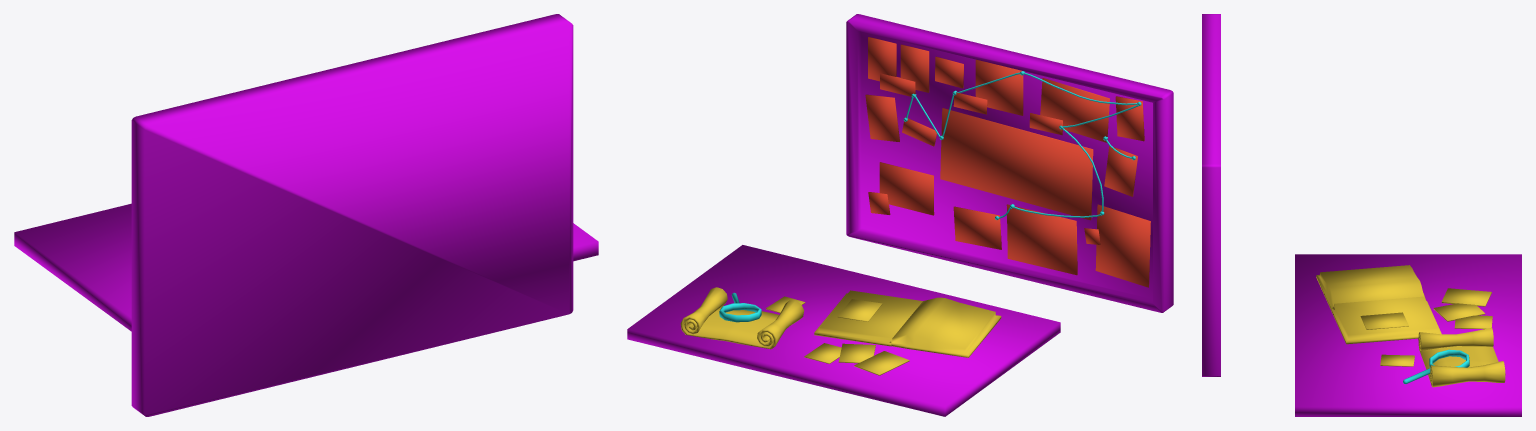
The model's file is StoryboardNEW.fbx.
3 renders of one model, left to right at view 1: azimuth 30°, elevation 25°; view 2: azimuth 150°, elevation 25°; view 3: azimuth 270°, elevation 25°, orthographic. The views are drawn at different scales.
Visible parts, largest first — view 1: Board, Plane.019; view 2: Board, Plane.019, Plane.039, book page left, Plane.029, scroll open, Plane.030, book page right, Plane.037, Plane.026, Plane.035, Plane.028 (+16 smaller); view 3: Plane.019, Board, scroll open, book page right, book page left, Plane.021, Plane.006, Plane.003, Circle, Plane.004, Plane.005.
Boxes of the visible parts, x1,y1,x2,y2 form: Board: (131,14,573,416); Plane.019: (14,203,598,331); Board: (846,14,1173,312); Plane.019: (627,245,1060,416); Plane.039: (940,108,1093,220); book page left: (889,297,1001,357); Plane.029: (1006,204,1077,275); scroll open: (680,287,804,349); Plane.030: (1095,204,1150,287); book page right: (814,290,922,346); Plane.037: (1040,78,1109,142); Plane.026: (879,162,934,215); Plane.035: (975,59,1023,115); Plane.028: (953,206,1001,249); Plane.019: (1295,254,1521,416); Board: (1202,14,1220,376); scroll open: (1418,327,1505,387); book page right: (1331,296,1441,344); book page left: (1316,265,1425,309); Plane.021: (1441,288,1491,306); Plane.006: (1360,312,1408,329); Plane.003: (1433,303,1485,321); Circle: (1403,349,1469,384); Plane.004: (1454,315,1492,329); Plane.005: (1380,354,1414,366).
Size of the model in its own units: 241 by 134 by 177.
